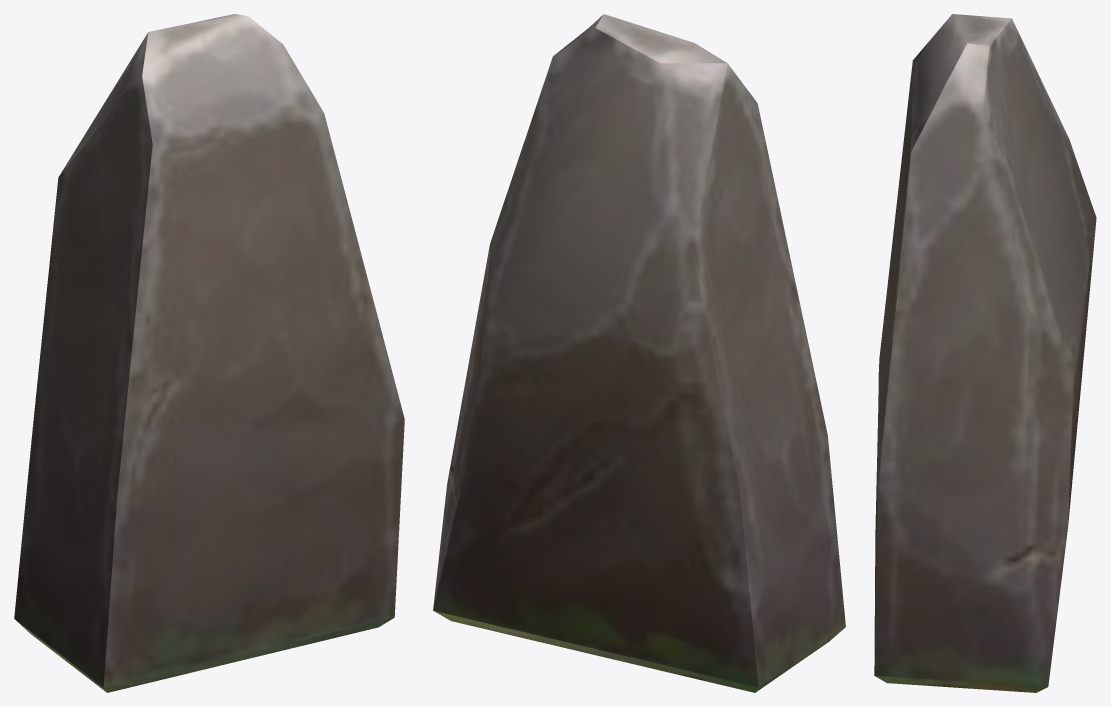
The model's file is Rock_01.fbx.
The picture shows the model from 3 angles, left to right: view 1: azimuth 30°, elevation 25°; view 2: azimuth 150°, elevation 25°; view 3: azimuth 270°, elevation 25°; orthographic projection. The views are drawn at different scales.
Parts seen in each view (by area): view 1: Stone_3_Low.001; view 2: Stone_3_Low.001; view 3: Stone_3_Low.001.
Part boxes in pixels (<box>): Stone_3_Low.001: <box>14,14,404,692</box>; Stone_3_Low.001: <box>433,14,845,692</box>; Stone_3_Low.001: <box>874,14,1096,692</box>.
Bounding box in the file's own units: 54.36 × 97.58 × 32.91.
Materials: 1 (1 with a texture image).
